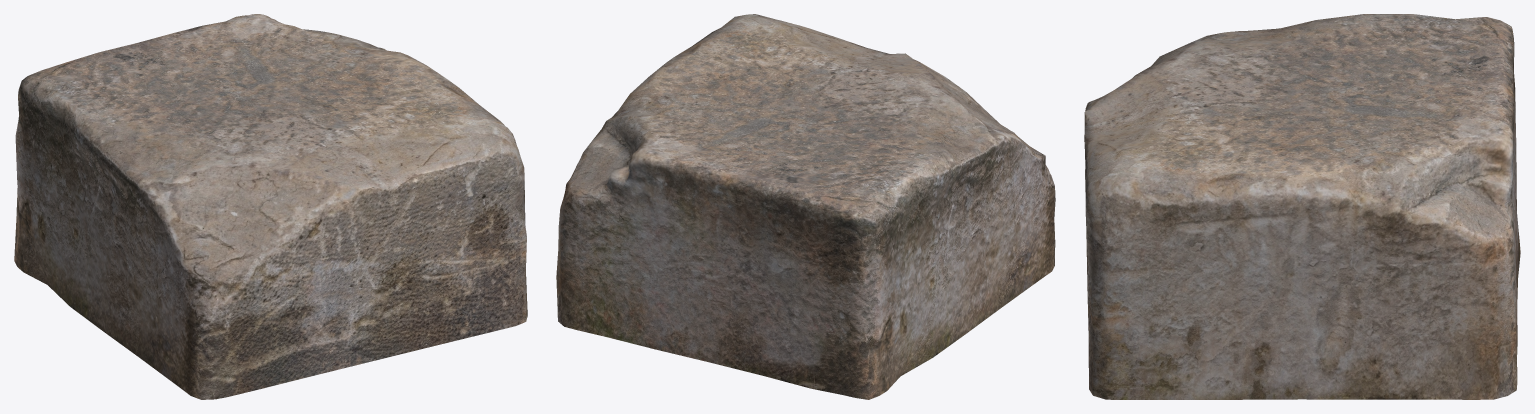
Rendered from mdl_granite_block.gltf.
The picture shows the model from 3 angles, left to right: view 1: azimuth 30°, elevation 25°; view 2: azimuth 150°, elevation 25°; view 3: azimuth 270°, elevation 25°; orthographic projection. The views are drawn at different scales.
Visible parts, largest first — view 1: Granite Block; view 2: Granite Block; view 3: Granite Block.
Boxes of the visible parts, x1=… form: Granite Block: x1=14, y1=14, x2=527, y2=399; Granite Block: x1=556, y1=14, x2=1055, y2=399; Granite Block: x1=1084, y1=14, x2=1520, y2=399.
Size of the model in its own units: 0.6471 by 0.3573 by 0.6586.
1 material, 1 textured.
